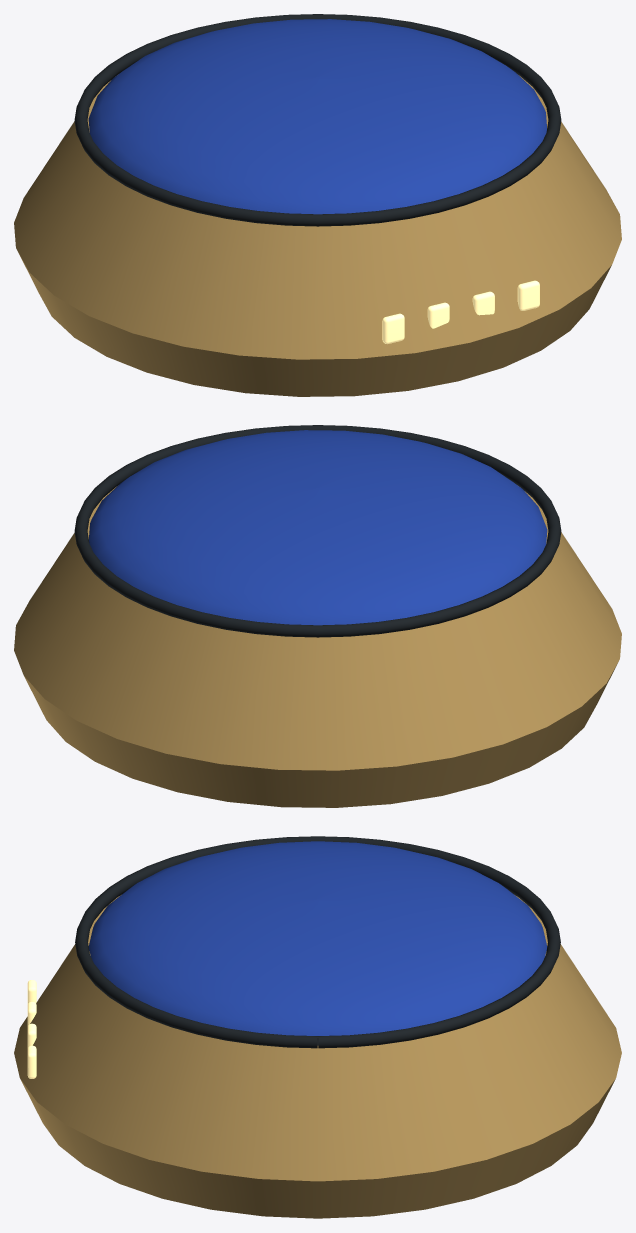
3 renders of one model, top to bottom at view 1: azimuth 30°, elevation 25°; view 2: azimuth 150°, elevation 25°; view 3: azimuth 270°, elevation 25°, orthographic.
Parts seen in each view (by area): view 1: Silo flared bunker, Silo armoured lid, Silo lid seam, Inset service window, Inset service window.003; view 2: Silo flared bunker, Silo armoured lid, Silo lid seam; view 3: Silo flared bunker, Silo armoured lid, Silo lid seam.
Part boxes in pixels (left/top/right/bottom): Silo flared bunker: left=14, top=75, right=621, bottom=396; Silo armoured lid: left=88, top=19, right=546, bottom=214; Silo lid seam: left=74, top=14, right=561, bottom=226; Inset service window: left=382, top=313, right=404, bottom=343; Inset service window.003: left=517, top=280, right=539, bottom=310; Silo flared bunker: left=14, top=486, right=621, bottom=807; Silo armoured lid: left=89, top=430, right=547, bottom=625; Silo lid seam: left=74, top=425, right=561, bottom=637; Silo flared bunker: left=14, top=895, right=621, bottom=1218; Silo armoured lid: left=88, top=841, right=547, bottom=1035; Silo lid seam: left=75, top=836, right=560, bottom=1048.
Bounding box in the file's own units: 2.34 × 0.85 × 2.34.
